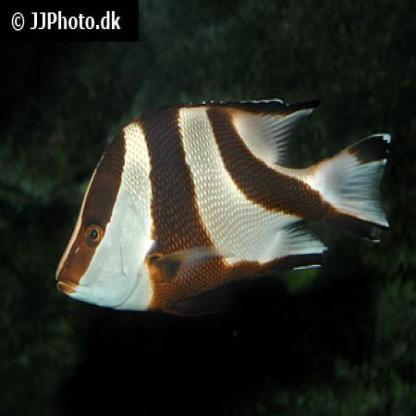snapper: (53, 92, 392, 327)
